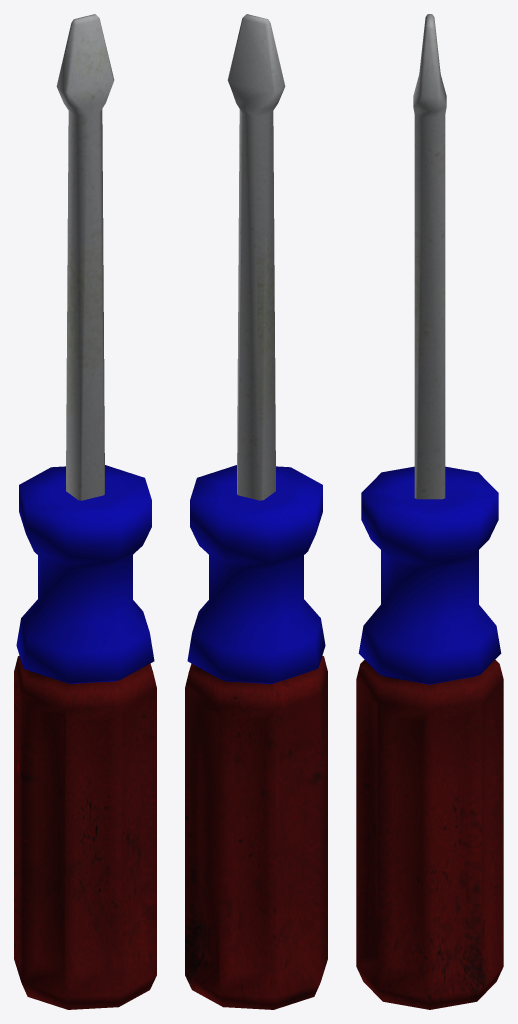
The model's file is Screwdriver.fbx.
3 views of the same model, side by side, from view 1: azimuth 30°, elevation 25°; view 2: azimuth 150°, elevation 25°; view 3: azimuth 270°, elevation 25° (orthographic).
Visible parts, largest first — view 1: pCylinder1, pCube1; view 2: pCylinder1, pCube1; view 3: pCylinder1, pCube1.
Part boxes in pixels (<box>): pCylinder1: <box>14,465,156,1009</box>; pCube1: <box>56,14,114,500</box>; pCylinder1: <box>185,465,327,1009</box>; pCube1: <box>227,14,285,500</box>; pCylinder1: <box>356,466,503,1009</box>; pCube1: <box>413,14,446,499</box>.
Bounding box in the file's own units: 0.5246 × 3.8 × 0.5246.
